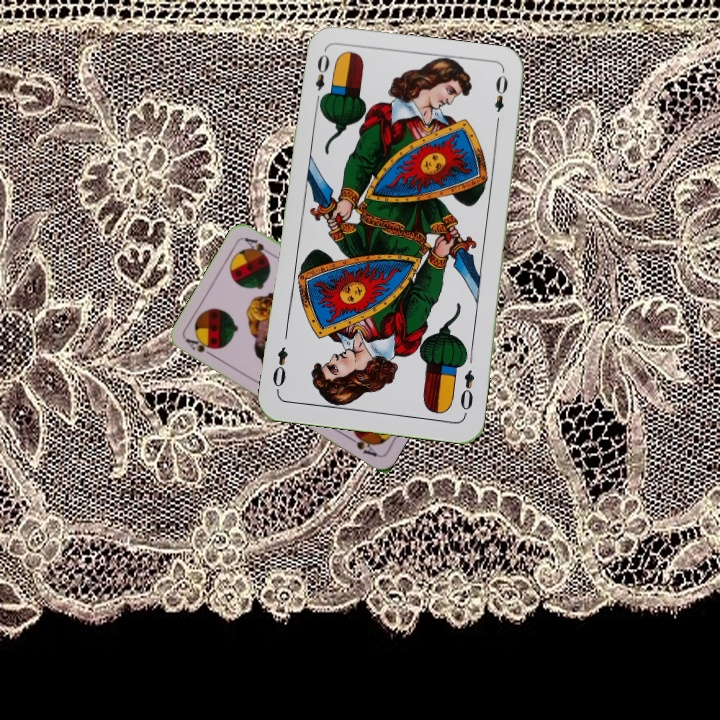EO: (311, 50, 332, 108), (456, 366, 478, 418)
SA: (182, 334, 219, 361)
